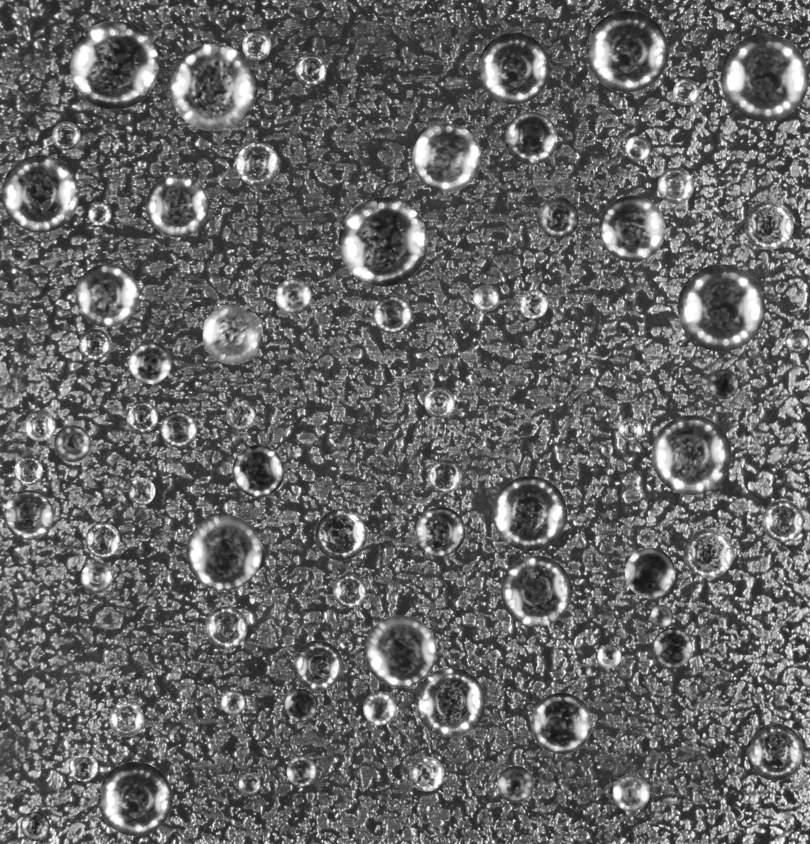Bubble: (338, 197, 427, 286), (70, 20, 158, 109), (720, 33, 808, 121), (170, 43, 257, 131), (677, 264, 765, 351), (586, 10, 668, 92), (651, 415, 731, 495), (1, 155, 79, 232), (186, 514, 262, 590), (492, 476, 567, 550), (98, 762, 172, 836), (364, 615, 436, 687), (500, 555, 572, 626), (478, 32, 549, 104), (416, 667, 485, 737), (412, 123, 481, 192), (599, 195, 665, 261), (75, 263, 139, 327), (145, 174, 208, 237), (531, 692, 592, 754), (202, 304, 263, 364), (746, 723, 803, 780), (504, 111, 557, 164), (232, 445, 284, 497), (315, 509, 366, 560), (625, 547, 675, 598), (683, 528, 733, 578), (415, 506, 465, 556), (293, 640, 343, 690), (3, 490, 53, 539), (744, 200, 793, 249), (236, 142, 279, 186), (129, 341, 171, 384), (205, 606, 247, 648), (762, 500, 803, 542), (537, 197, 578, 238), (652, 628, 692, 668), (373, 295, 412, 333), (54, 425, 91, 462), (612, 774, 649, 811), (160, 411, 197, 447), (657, 167, 694, 203), (497, 766, 533, 802), (275, 278, 311, 314), (109, 701, 144, 737), (409, 756, 444, 791), (85, 523, 120, 557), (428, 459, 461, 493), (363, 691, 396, 725), (332, 574, 366, 607), (125, 400, 158, 433), (284, 689, 317, 721), (81, 561, 112, 593), (79, 328, 110, 360), (24, 410, 55, 441), (424, 387, 455, 418), (295, 54, 326, 85), (286, 756, 316, 786), (226, 399, 256, 429), (708, 369, 738, 399), (20, 811, 49, 841), (51, 121, 80, 150), (13, 456, 42, 485), (242, 31, 271, 60), (69, 753, 98, 781), (519, 289, 547, 318), (128, 477, 155, 504), (473, 285, 499, 311), (673, 79, 699, 105), (625, 136, 650, 161), (618, 417, 643, 441), (597, 644, 621, 668), (221, 690, 244, 714), (785, 329, 809, 352), (650, 604, 673, 627), (88, 202, 111, 225), (238, 773, 260, 795), (577, 664, 591, 678), (601, 443, 613, 455), (609, 303, 618, 312)
